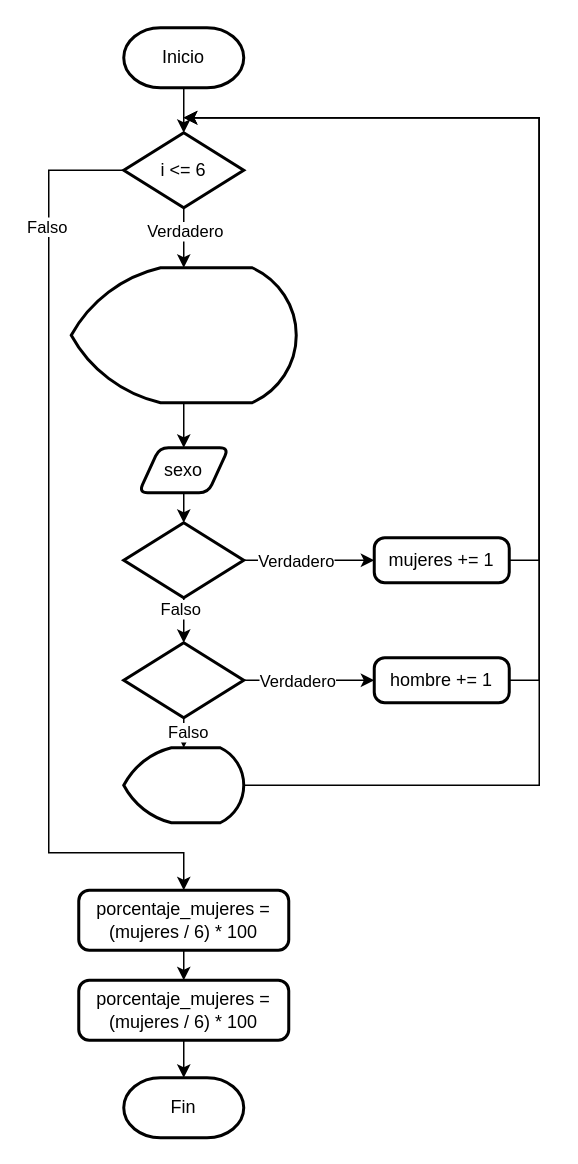
The diagram is 578 pixels wide and 1164 high, and some of its shapes have lost their labels. The shapes that lost their labels are listed below. From the top down, each one's centre as x and y in pixels, then its label:
the point at 183,335: "Ingrese el sexo de la persona. 1 para mujer, 2 para hombre.”
the point at 183,559: sexo == 1
the point at 183,679: sexo == 2
the point at 183,785: “Error, valor no valido”
